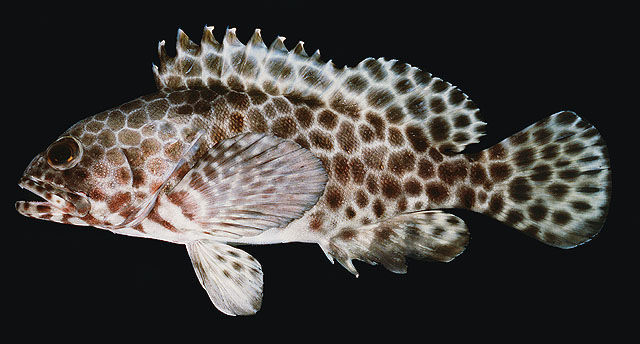fish: (14, 22, 612, 317)
